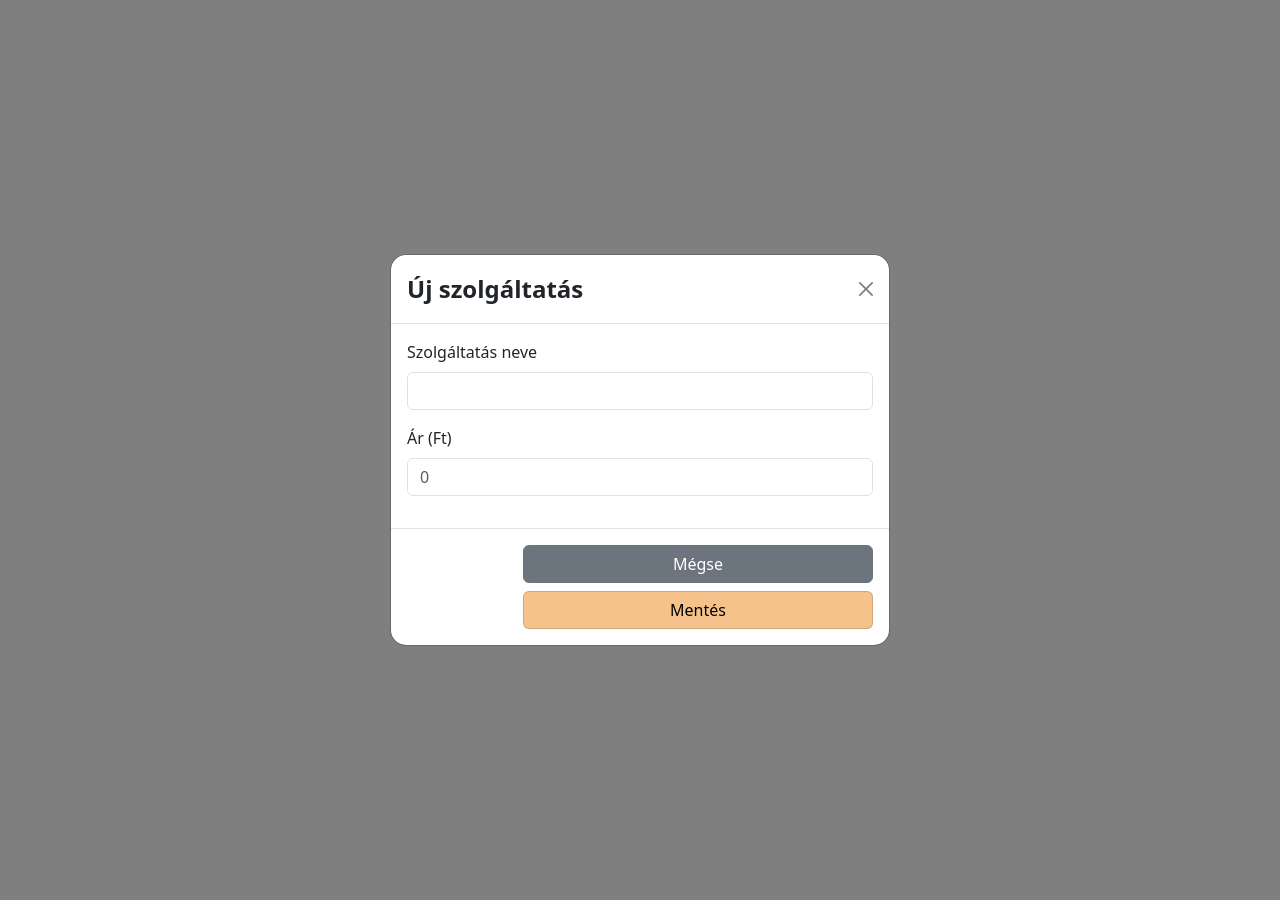
Test: ServiceModal › validáció működik (üres submit)
The width and height of the screenshot is (1280, 900).
What coordinates should you click on to do the following:
click the button "Mentés"
I would click on:
 (698, 610)
Its box is x1=523 y1=591 x2=873 y2=629.
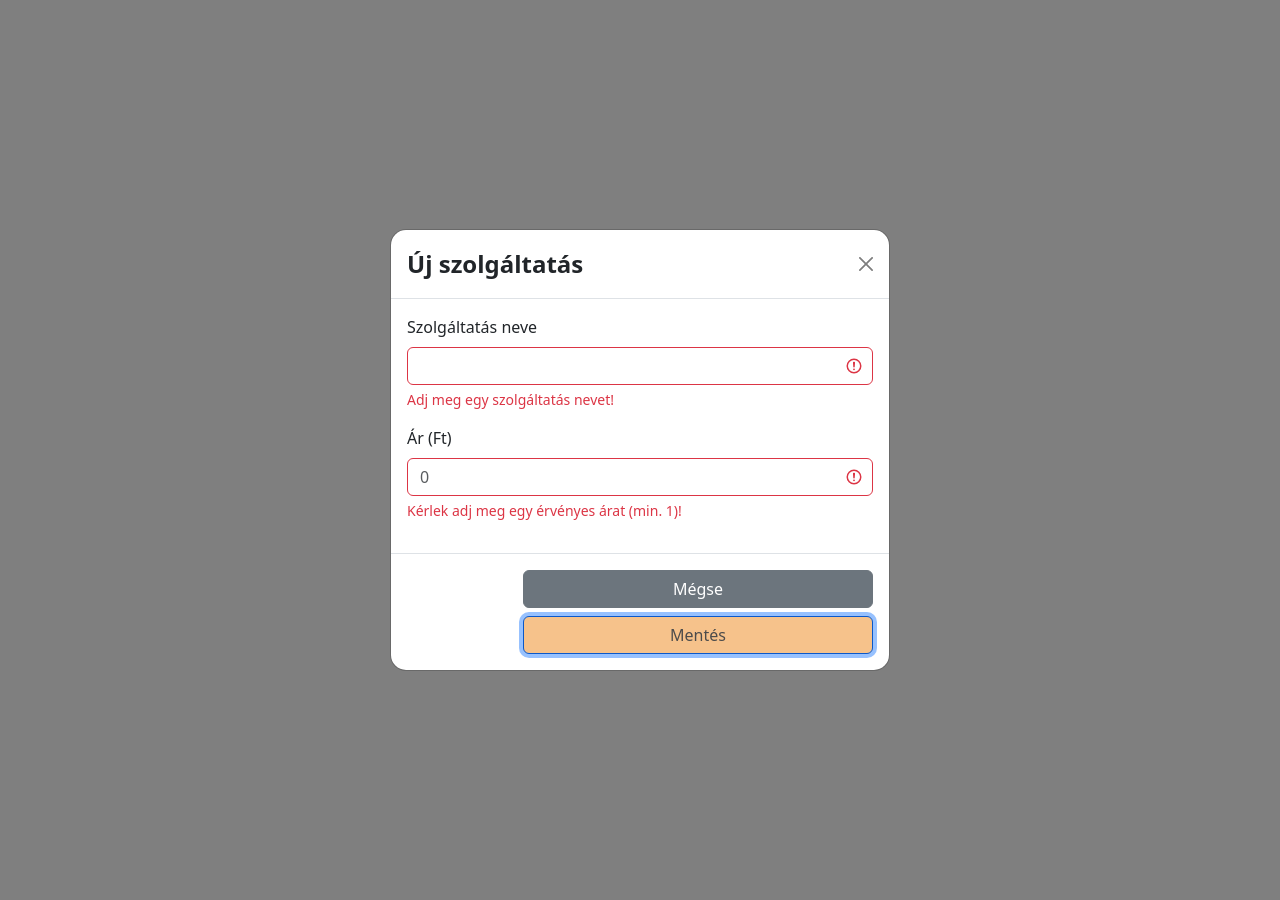
Check: the text "Adj meg egy szolgáltatás nevet!" is shown, box x1=407 y1=390 x2=614 y2=409
